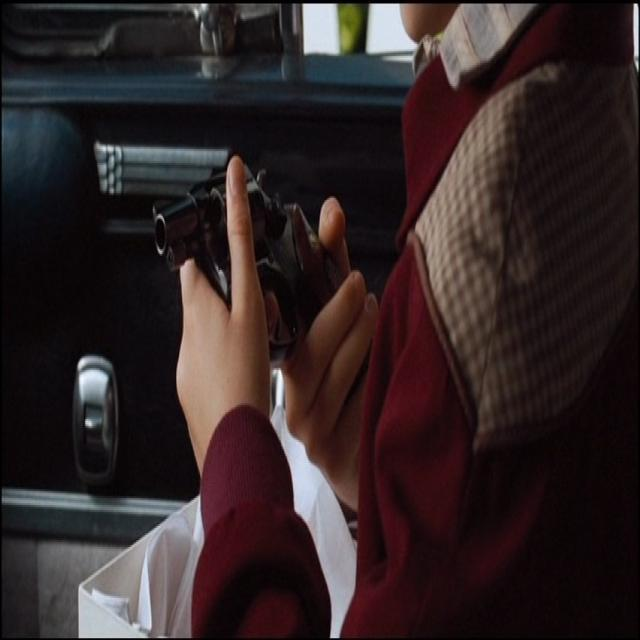gun-knife-thesis - v11 Yolov5 augmented: (145, 142, 380, 423)
